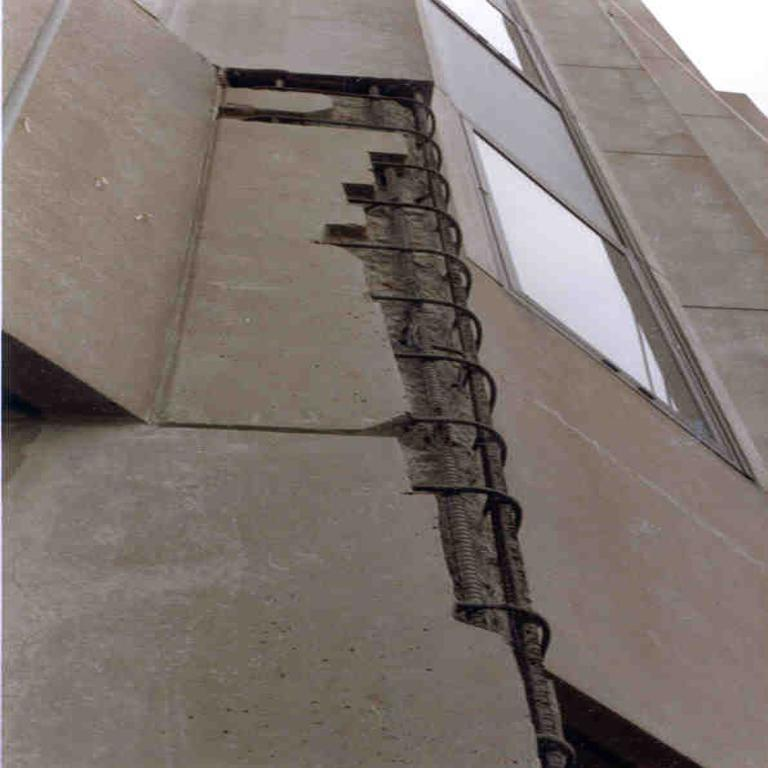exposed_rebar: (370, 102, 574, 767)
spalling: (224, 62, 571, 762)
